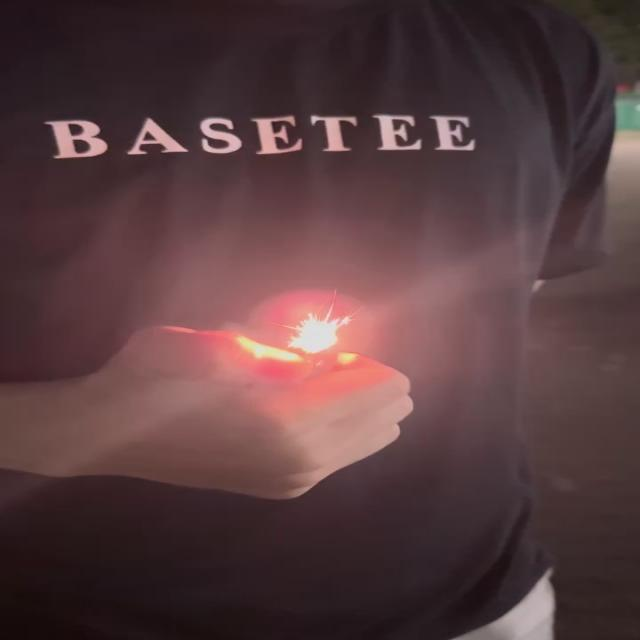Fire: (261, 296, 364, 359)
